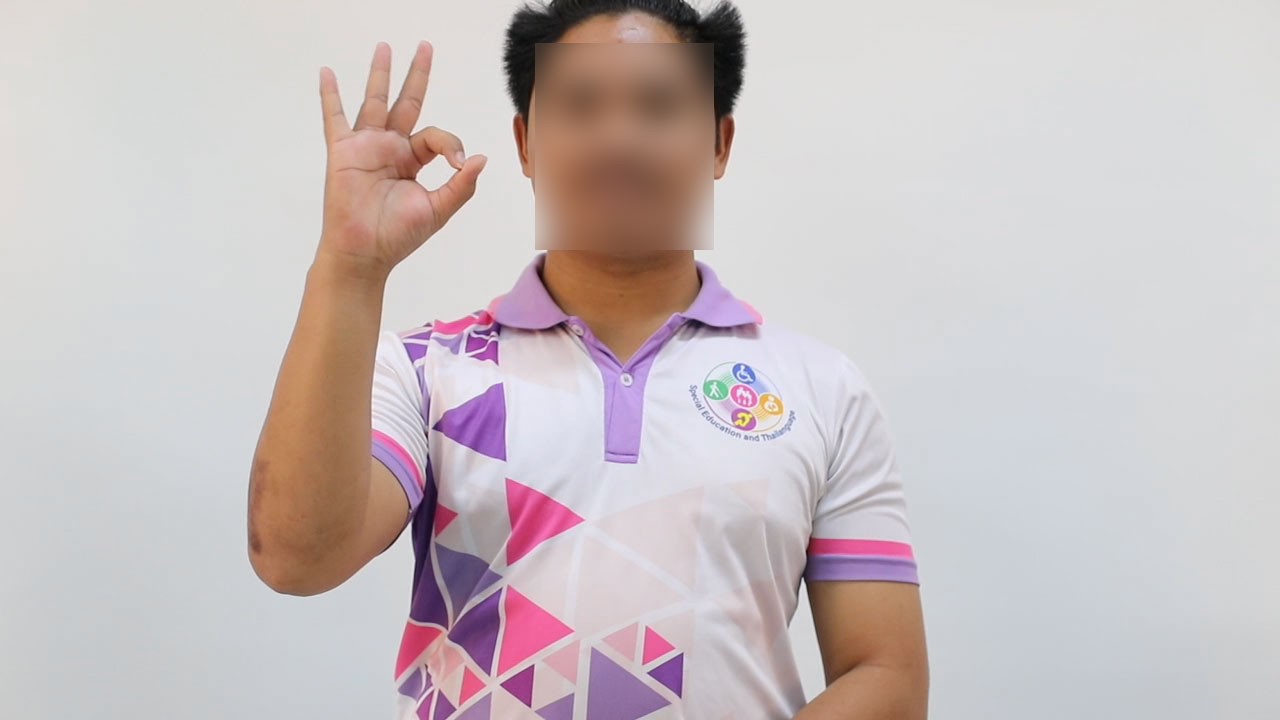for: (306, 31, 495, 287)
